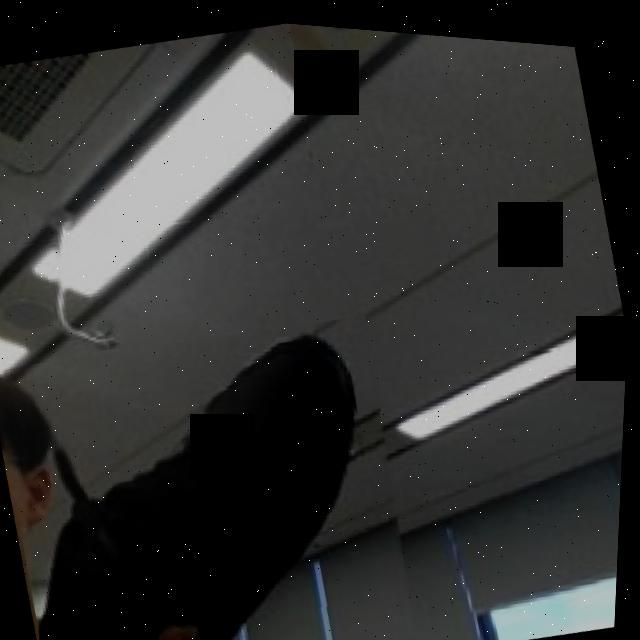shoe: (0, 284, 443, 640)
